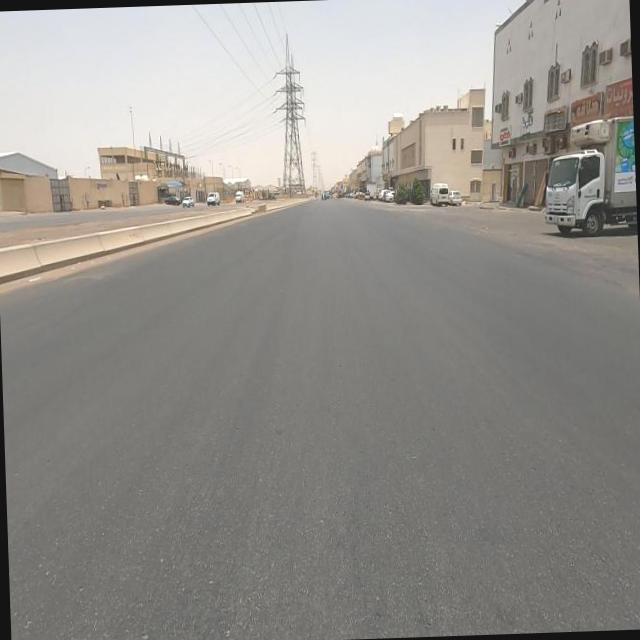debris: (520, 86, 586, 152)
